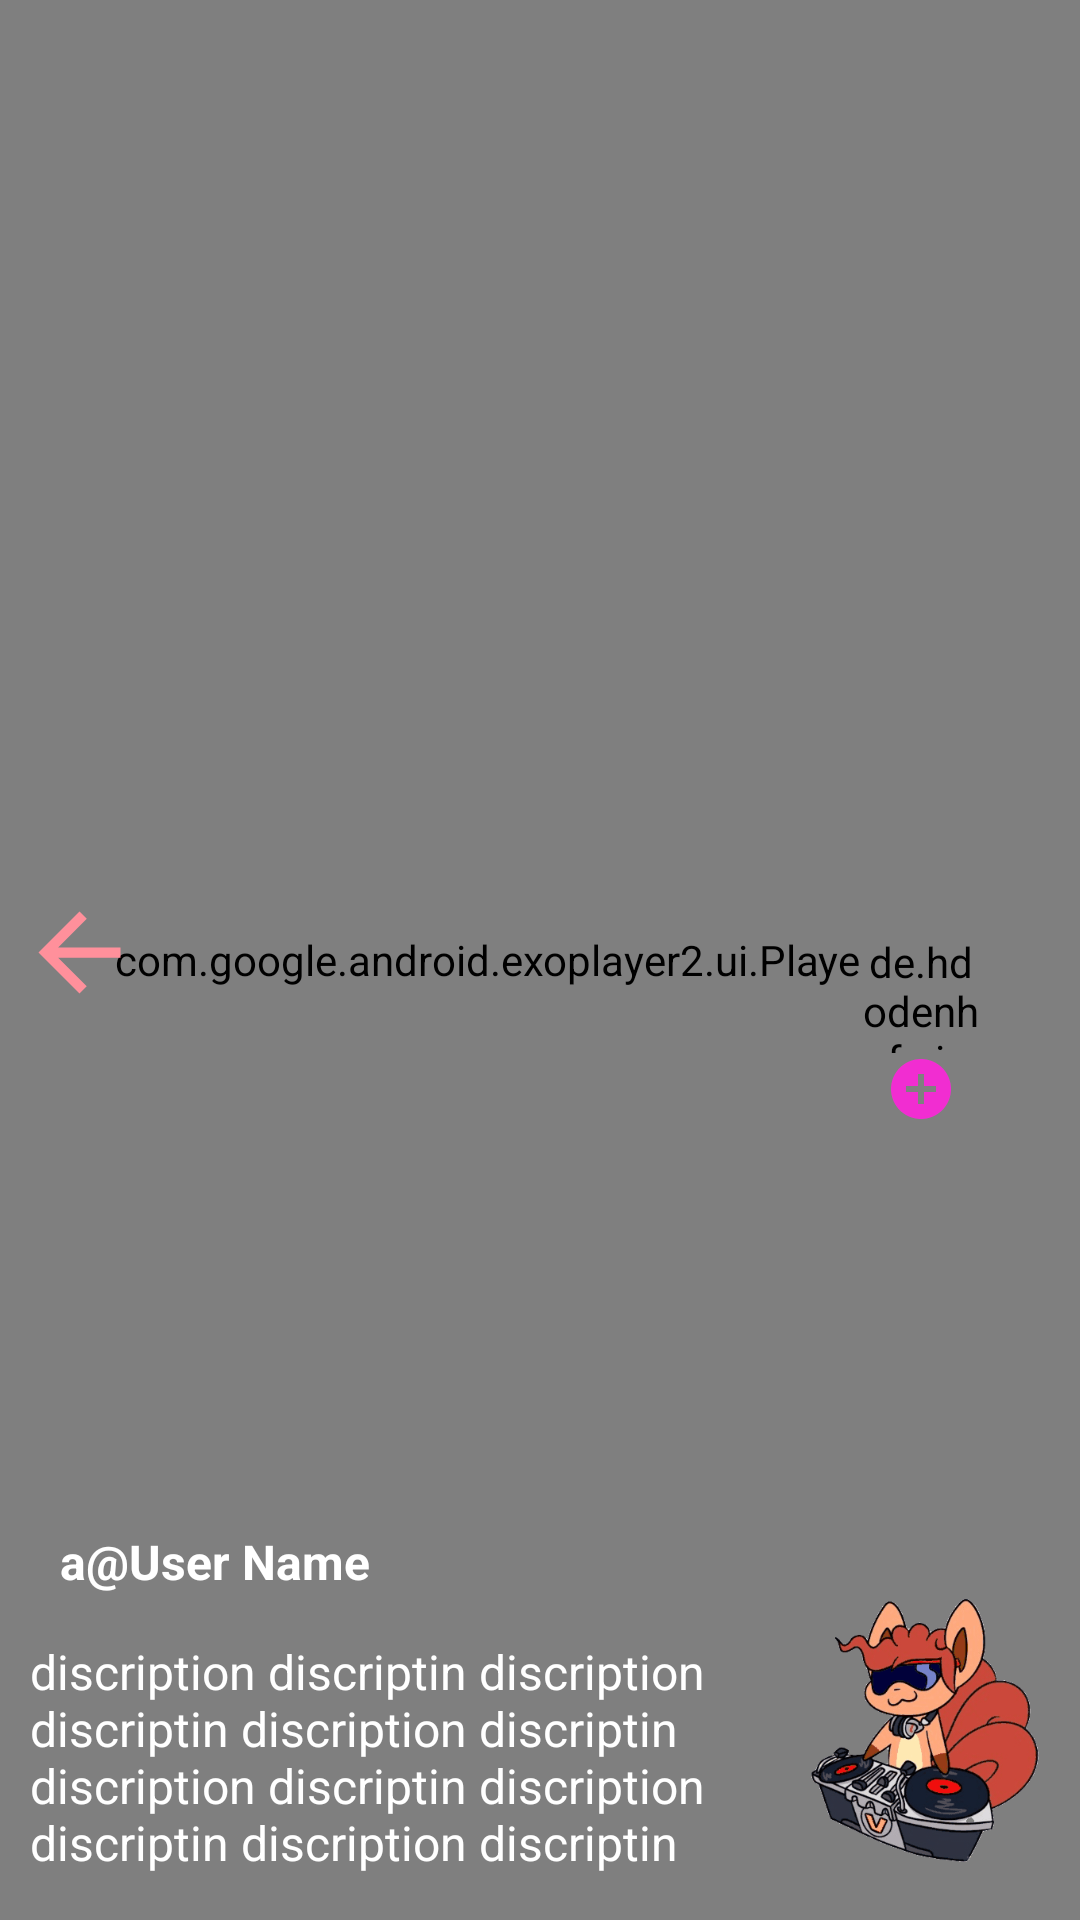

Screen size 1080 × 1920. Icon name, then its box in pixels as (x1, y1, x2, y2):
add circle: (891, 1059, 951, 1119)
djdisc: (811, 1599, 1039, 1862)
